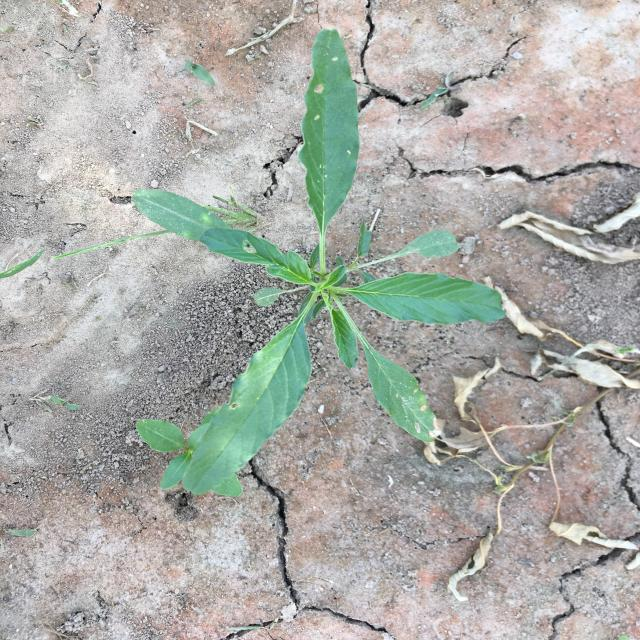Waterhemp: (132, 29, 506, 497)
